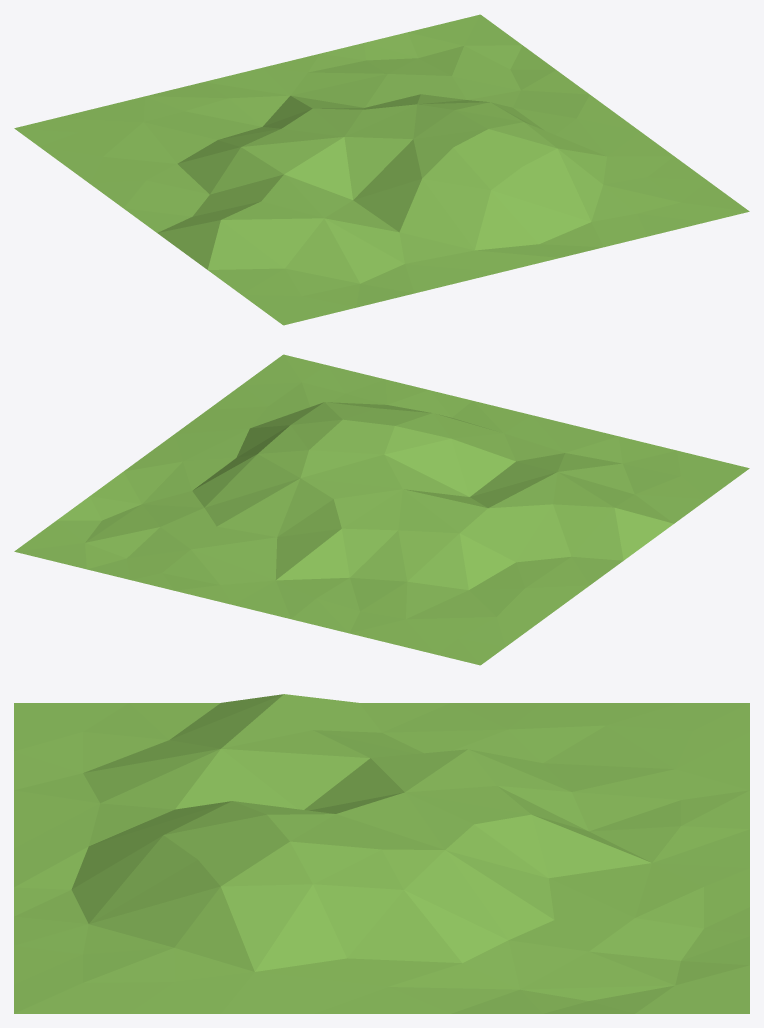
File: MT_Terrain_S_c_24.fbx
3 renders of one model, top to bottom at view 1: azimuth 30°, elevation 25°; view 2: azimuth 150°, elevation 25°; view 3: azimuth 270°, elevation 25°, orthographic. The views are drawn at different scales.
Visible parts, largest first — view 1: MT_Terrain_S_c_24; view 2: MT_Terrain_S_c_24; view 3: MT_Terrain_S_c_24.
Boxes of the visible parts, left/top/right/bottom form: MT_Terrain_S_c_24: left=14, top=14, right=749, bottom=325; MT_Terrain_S_c_24: left=14, top=354, right=749, bottom=665; MT_Terrain_S_c_24: left=14, top=694, right=749, bottom=1013.
Size of the model in its own units: 2500 by 270 by 2500.
